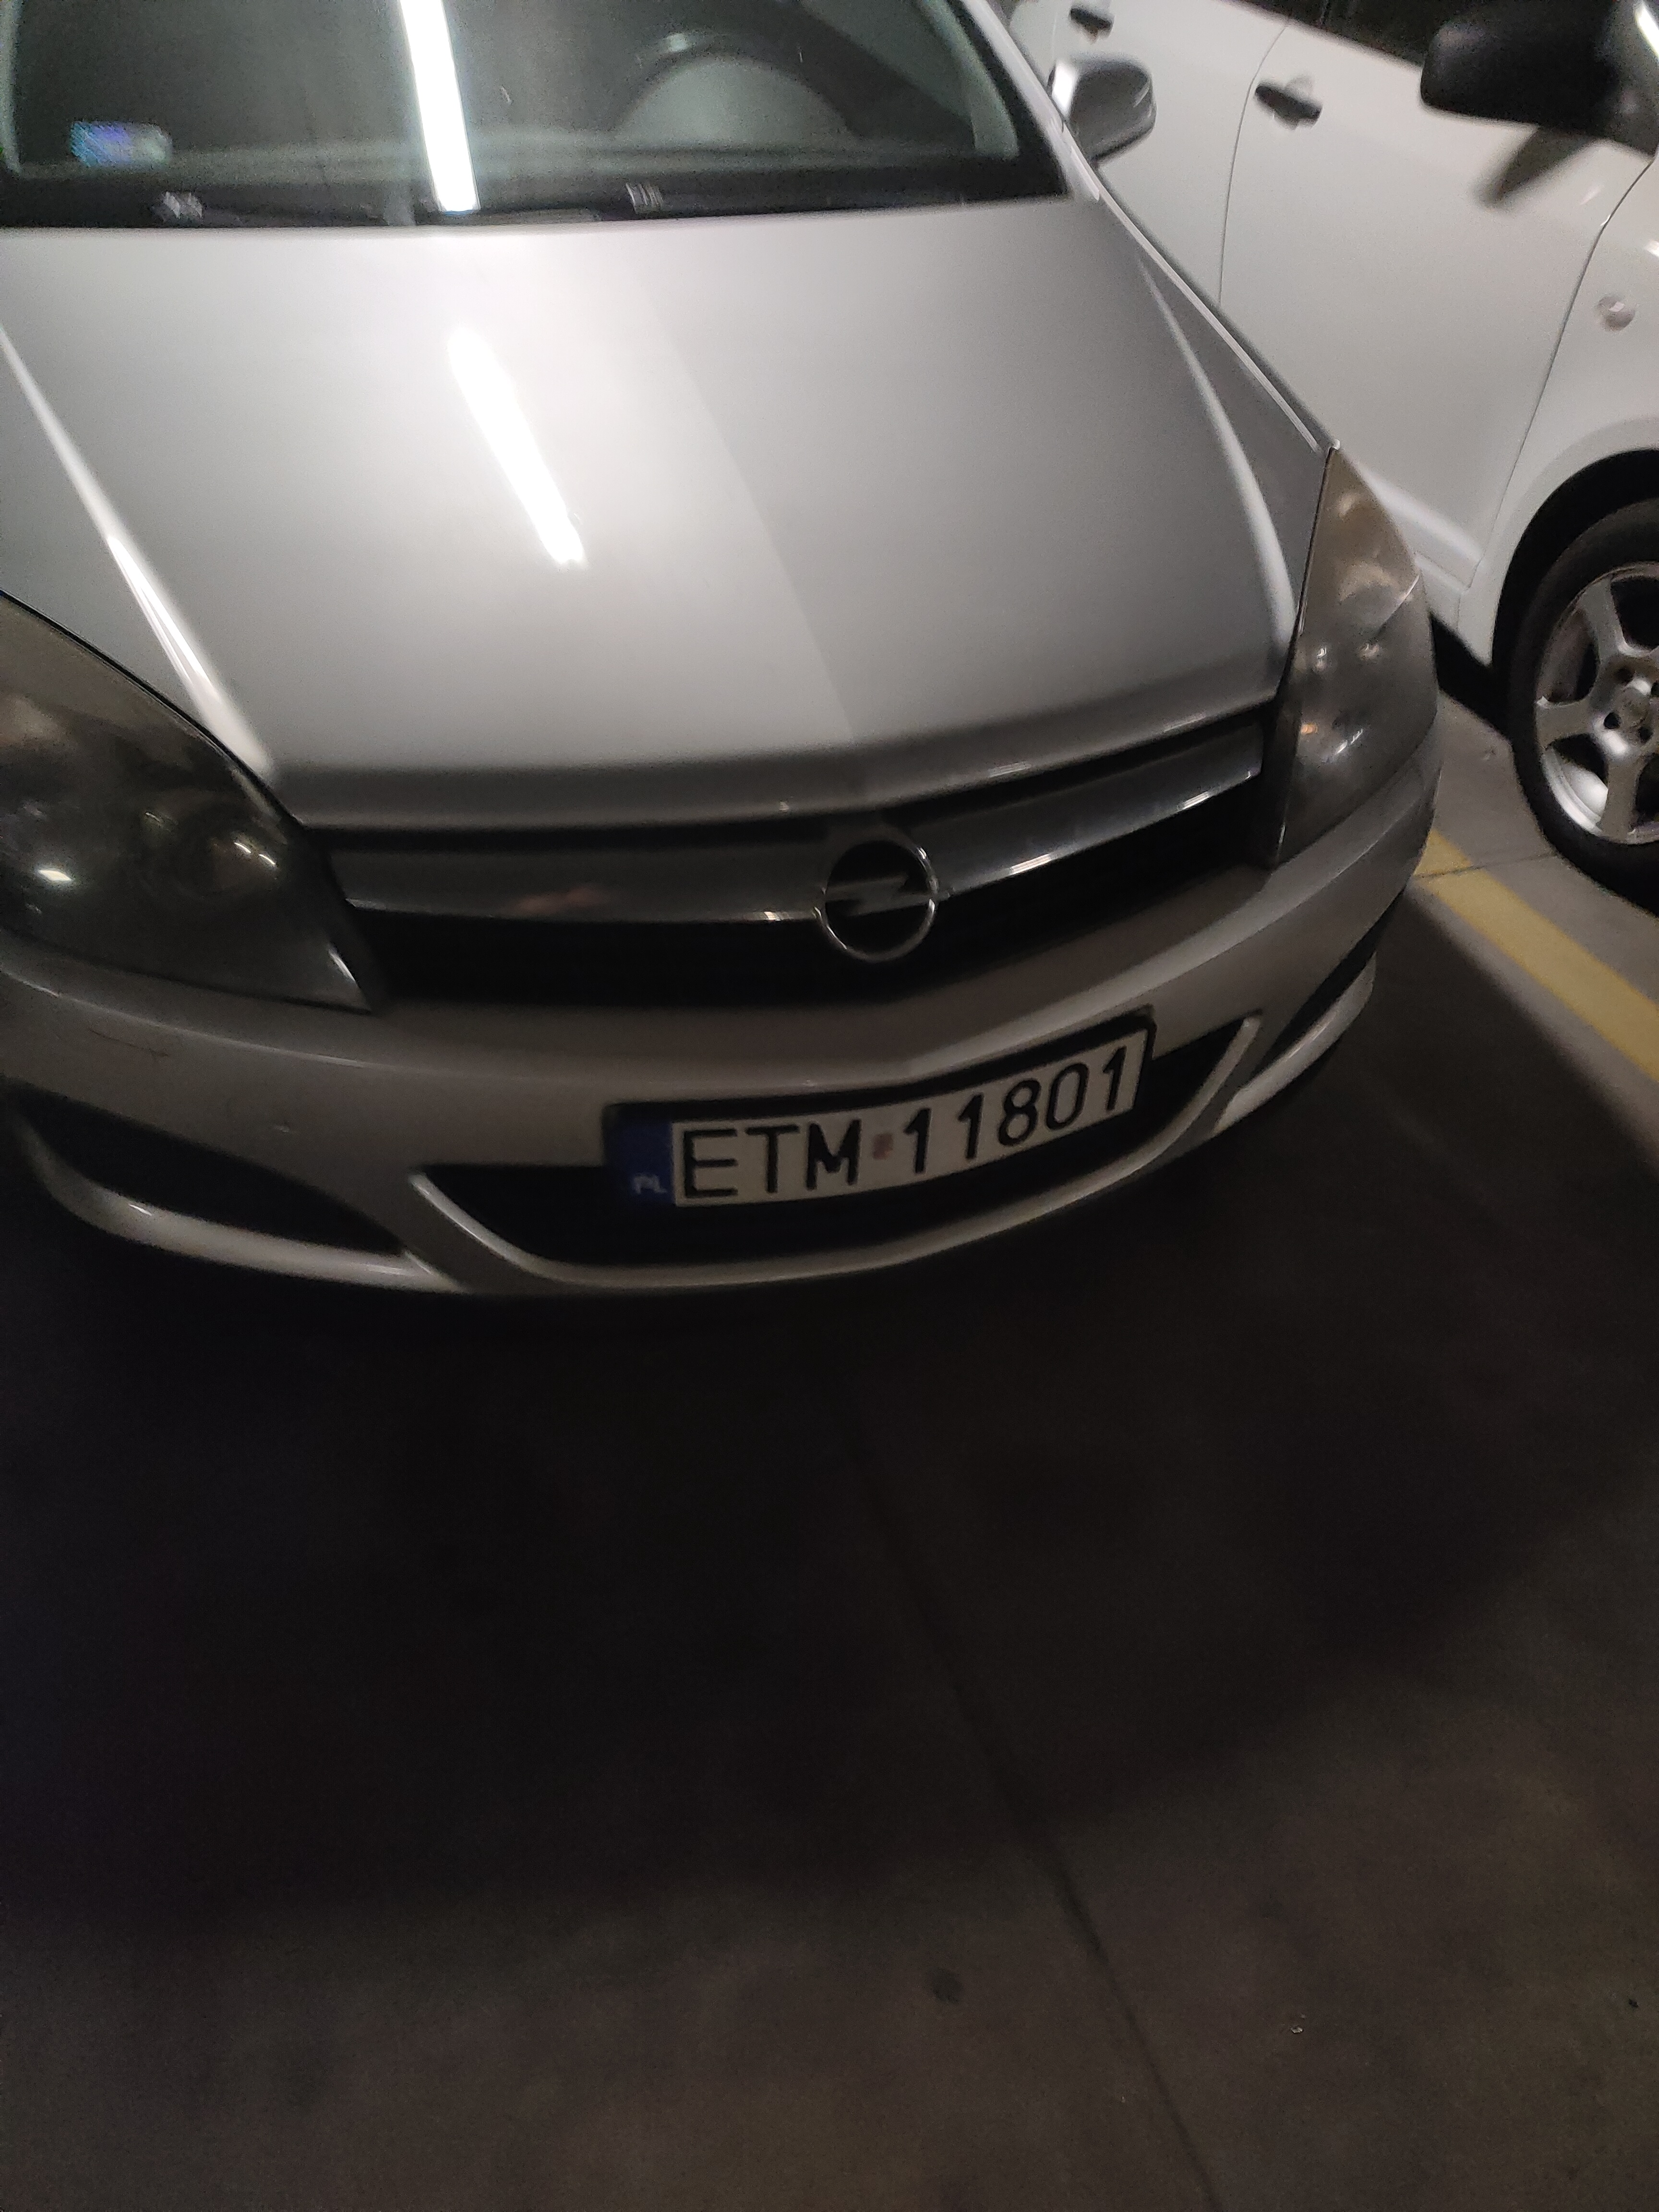number_plate: (609, 1015, 1161, 1219)
